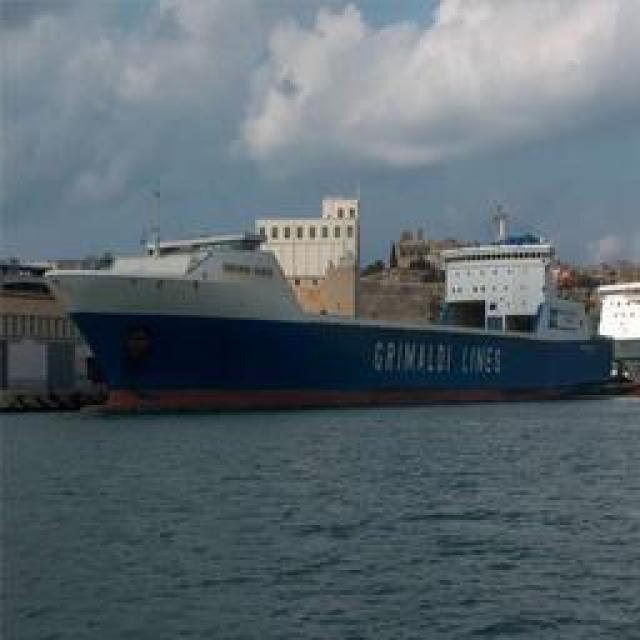CIV_Ship: (24, 224, 624, 414)
